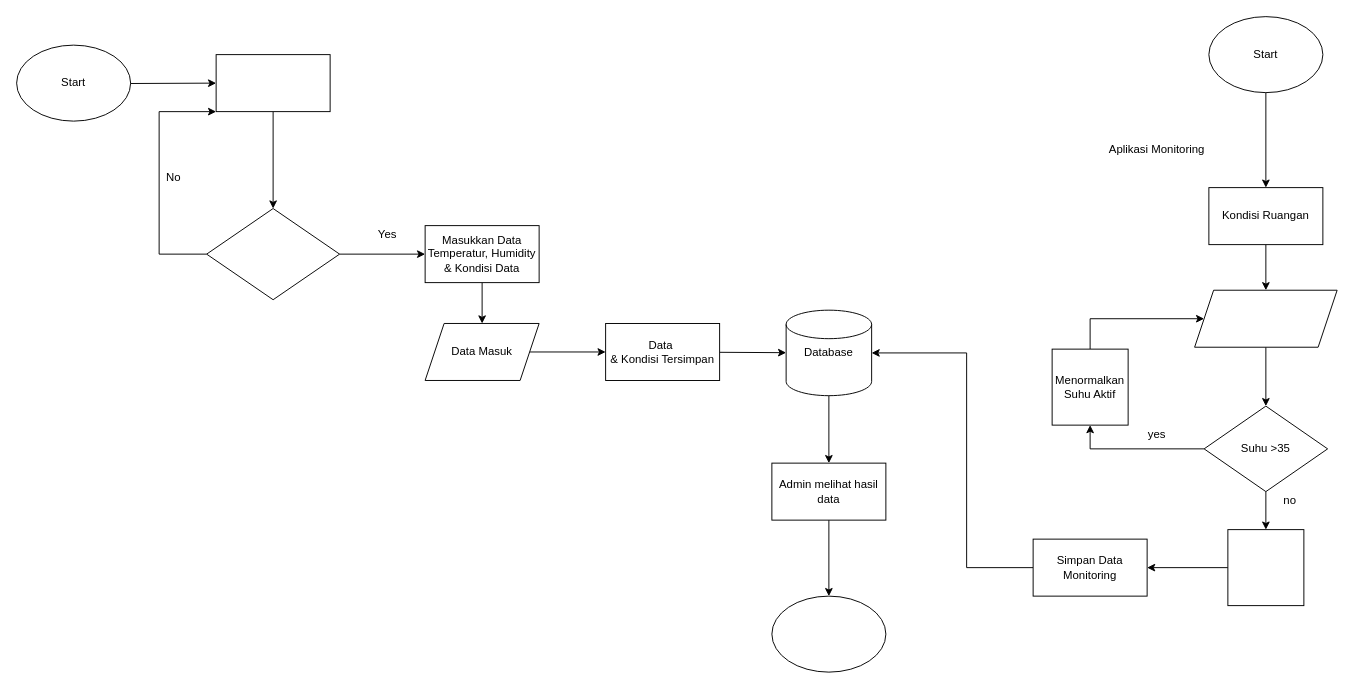
Some shapes in this 1354 by 689 pixel diagram are drawn without their labels. Each missing label, with the centre of its shape:
End: (828,633)
Login Admin: (272,83)
Menormalkan Suhu Mati: (1265,567)
Sensor mendeteksi temperatur: (1265,318)
User/Pass Valid?: (273,254)
